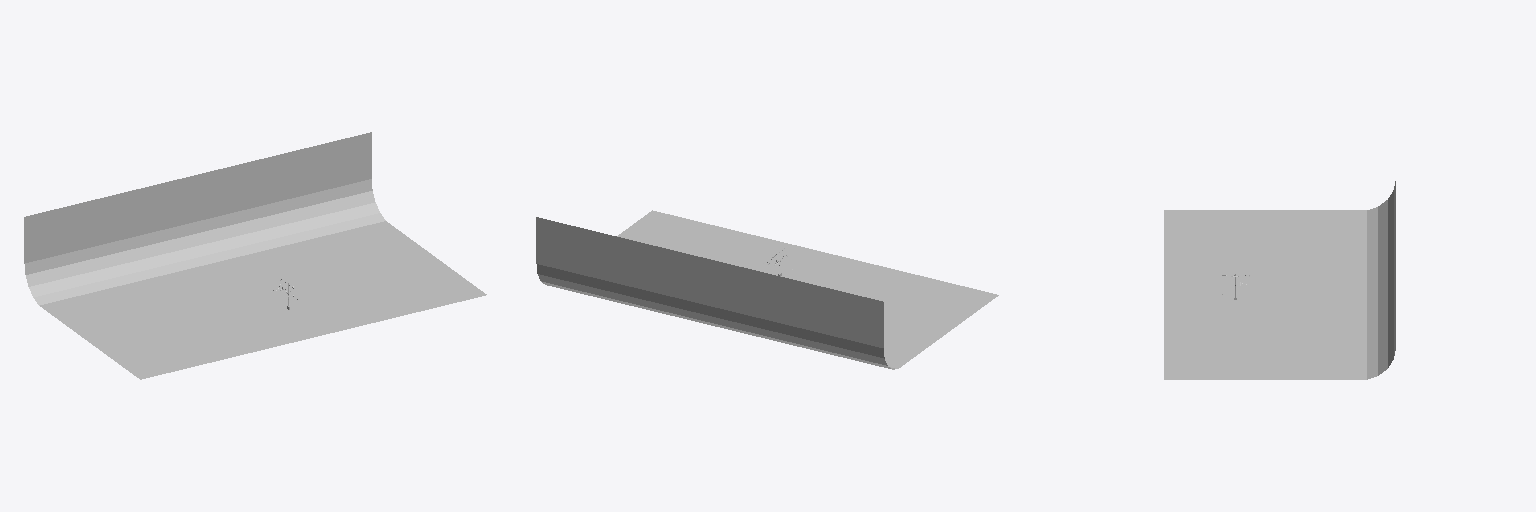
Rendered from Antenna.obj.
The picture shows the model from 3 angles: view 1: azimuth 30°, elevation 25°; view 2: azimuth 150°, elevation 25°; view 3: azimuth 270°, elevation 25°; orthographic projection.
Visible parts, largest first — view 1: Cylinder001; view 2: Cylinder001; view 3: Cylinder001.
Part boxes in pixels (x1,y1,x2,y2): Cylinder001: (24, 132, 486, 379); Cylinder001: (536, 210, 998, 369); Cylinder001: (1164, 181, 1395, 379).
Bounding box in the file's own units: 1788 × 385 × 1034.